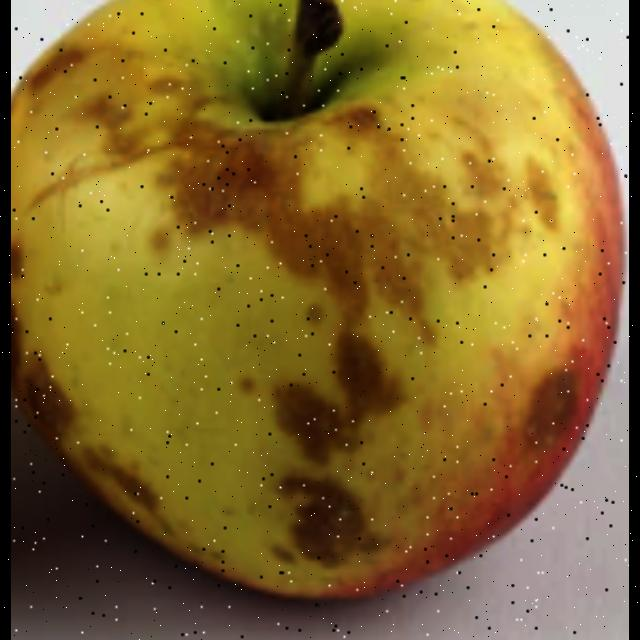Apel Tidak Segar: (11, 1, 623, 600)
